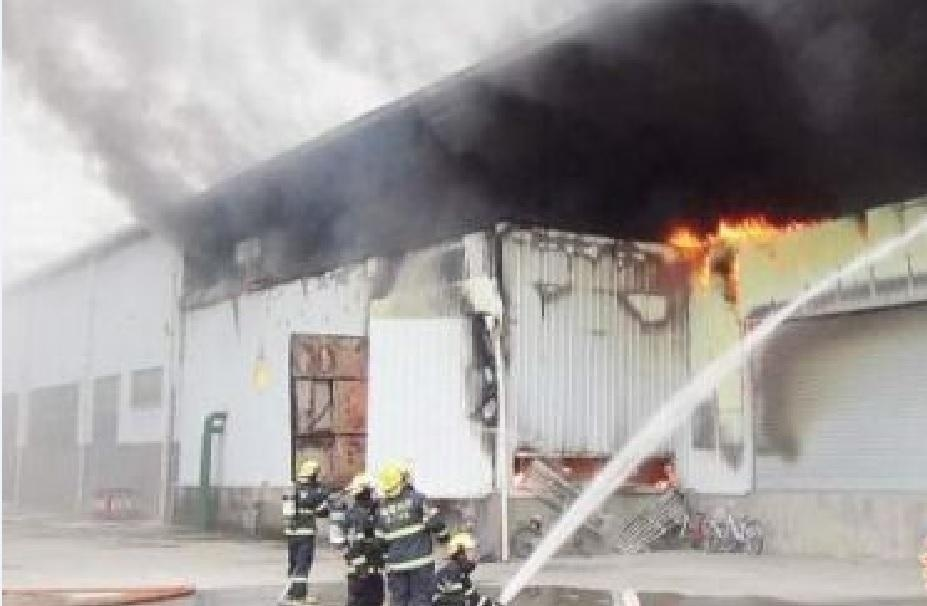fire: (666, 207, 816, 251)
